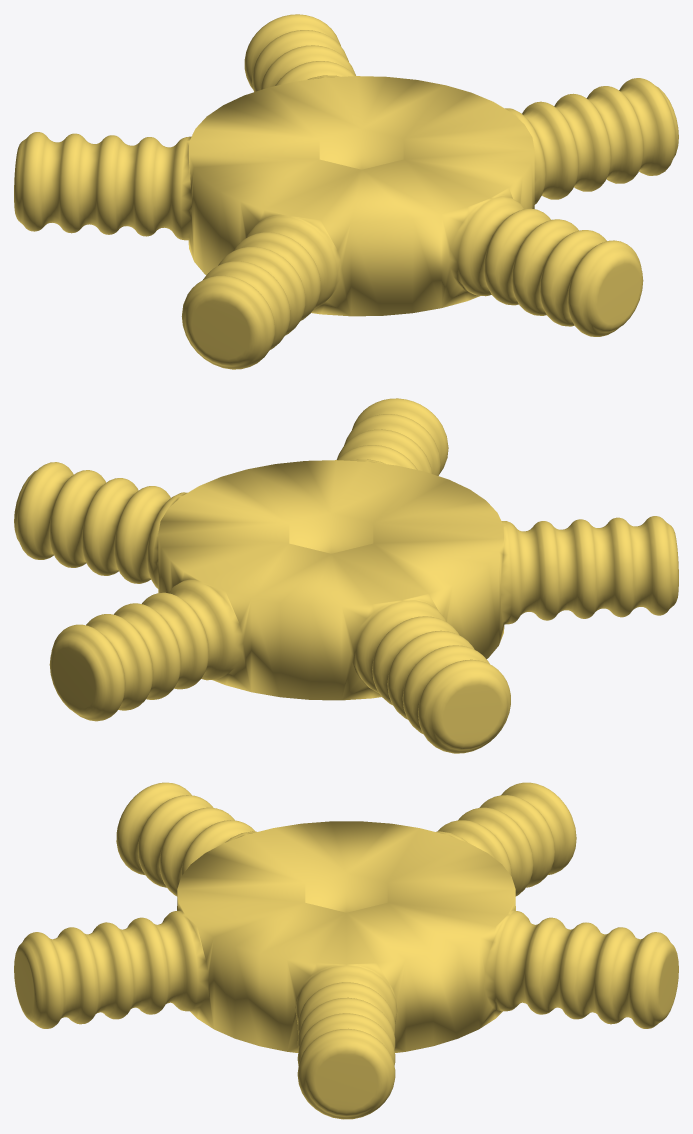
The model's file is kicker-insert.glb.
3 views of the same model, one above another, from view 1: azimuth 30°, elevation 25°; view 2: azimuth 150°, elevation 25°; view 3: azimuth 270°, elevation 25° (orthographic). The views are drawn at different scales.
Parts seen in each view (by area): view 1: kicker_insert; view 2: kicker_insert; view 3: kicker_insert.
Boxes of the visible parts, bbox=[...] form: kicker_insert: bbox=[14, 14, 678, 369]; kicker_insert: bbox=[14, 398, 678, 753]; kicker_insert: bbox=[14, 782, 678, 1119].
Bounding box in the file's own units: 5.61 × 0.9 × 5.89.
